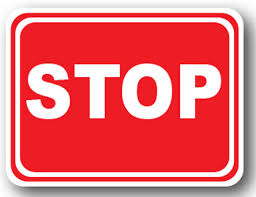stop sign: (9, 10, 243, 186)
